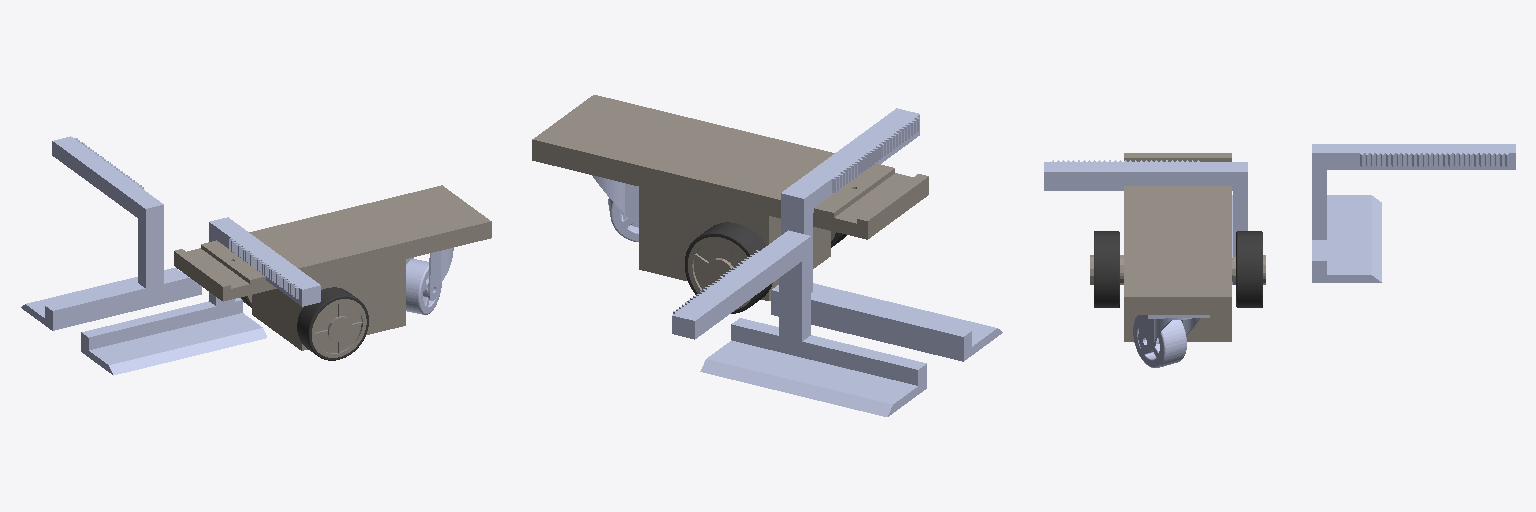
The robot description file, URDF, robot "rocr":
<?xml version="1.0" encoding="utf-8"?>
<!-- This URDF was automatically created by SolidWorks to URDF Exporter! Originally created by [author] ([email redacted]) 
     Commit Version: 1.5.1-0-g916b5db  Build Version: 1.5.7152.31018
     For more information, please see http://wiki.ros.org/sw_urdf_exporter -->
<robot
  name="rocr">
  <link name="dummy_link"></link>
  <joint name="dummy_joint" type="fixed">
    <parent link="dummy_link" />
    <child link="base_link" />
  </joint>
  <link name="base_link">
    <inertial>
      <origin
        xyz="-0.141982550331591 -0.0449776887077858 -0.0201281379637982"
        rpy="0 0 0" />
      <mass
        value="8.3349118107069" />
      <inertia
        ixx="0.0115670401460947"
        ixy="6.14001253524358E-06"
        ixz="-0.00089972879961413"
        iyy="0.0302239682852884"
        iyz="4.05745548139952E-06"
        izz="0.0308612658208841" />
    </inertial>
    <visual>
      <origin
        xyz="0 0 0"
        rpy="0 0 0" />
      <geometry>
        <mesh
          filename="package://rocr/meshes/base_link.STL" />
      </geometry>
      <material
        name="">
        <color
          rgba="0.650980392156863 0.619607843137255 0.588235294117647 1" />
      </material>
    </visual>
    <collision>
      <origin
        xyz="0 0 0"
        rpy="0 0 0" />
      <geometry>
        <mesh
          filename="package://rocr/meshes/base_link.STL" />
      </geometry>
    </collision>
  </link>
  <link
    name="link_right_arm">
    <inertial>
      <origin
        xyz="0.105749170017255 0.041732238071937 0.0288280104468748"
        rpy="0 0 0" />
      <mass
        value="0.165316765586137" />
      <inertia
        ixx="0.00061062074620645"
        ixy="-0.000197454180877903"
        ixz="-0.000122729645879153"
        iyy="0.000702185352603572"
        iyz="-0.000186690232637552"
        izz="0.000631933215587882" />
    </inertial>
    <visual>
      <origin
        xyz="0 0 0"
        rpy="0 0 0" />
      <geometry>
        <mesh
          filename="package://rocr/meshes/link_right_arm.STL" />
      </geometry>
      <material
        name="">
        <color
          rgba="0.792156862745098 0.819607843137255 0.933333333333333 1" />
      </material>
    </visual>
    <collision>
      <origin
        xyz="0 0 0"
        rpy="0 0 0" />
      <geometry>
        <mesh
          filename="package://rocr/meshes/link_right_arm.STL" />
      </geometry>
    </collision>
  </link>
  <joint
    name="joint_right_arm"
    type="prismatic">
    <origin
      xyz="-0.36753 0 -0.072"
      rpy="1.5708 0 0" />
    <parent
      link="base_link" />
    <child
      link="link_right_arm" />
    <axis
      xyz="0 0 1" />
    <limit
      lower="0"
      upper="0"
      effort="0"
      velocity="0" />
  </joint>
  <link
    name="link_left_arm">
    <inertial>
      <origin
        xyz="-0.0655989557893638 0.0418008535608141 0.127140611347727"
        rpy="0 0 0" />
      <mass
        value="0.160992890586137" />
      <inertia
        ixx="0.000595308316329433"
        ixy="-8.90928279875956E-05"
        ixz="5.62513948424321E-05"
        iyy="0.000548684708610842"
        iyz="0.000182030001506834"
        izz="0.000479899493032254" />
    </inertial>
    <visual>
      <origin
        xyz="0 0 0"
        rpy="0 0 0" />
      <geometry>
        <mesh
          filename="package://rocr/meshes/link_left_arm.STL" />
      </geometry>
      <material
        name="">
        <color
          rgba="0.792156862745098 0.819607843137255 0.933333333333333 1" />
      </material>
    </visual>
    <collision>
      <origin
        xyz="0 0 0"
        rpy="0 0 0" />
      <geometry>
        <mesh
          filename="package://rocr/meshes/link_left_arm.STL" />
      </geometry>
    </collision>
  </link>
  <joint
    name="joint_left_arm"
    type="prismatic">
    <origin
      xyz="-0.214 0.066815 -0.072"
      rpy="1.5708 0 0" />
    <parent
      link="base_link" />
    <child
      link="link_left_arm" />
    <axis
      xyz="0 0 1" />
    <limit
      lower="0"
      upper="0"
      effort="0"
      velocity="0" />
  </joint>
  <link
    name="link_right_rim">
    <inertial>
      <origin
        xyz="-5.55111512312578E-17 0 -0.0113891093112037"
        rpy="0 0 0" />
      <mass
        value="0.400654705302582" />
      <inertia
        ixx="0.000116204274958593"
        ixy="0"
        ixz="-8.65078073008246E-22"
        iyy="0.000116204274958593"
        iyz="1.33721445129206E-21"
        izz="0.000203418948332367" />
    </inertial>
    <visual>
      <origin
        xyz="0 0 0"
        rpy="0 0 0" />
      <geometry>
        <mesh
          filename="package://rocr/meshes/link_right_rim.STL" />
      </geometry>
      <material
        name="">
        <color
          rgba="0.650980392156863 0.619607843137255 0.588235294117647 1" />
      </material>
    </visual>
    <collision>
      <origin
        xyz="0 0 0"
        rpy="0 0 0" />
      <geometry>
        <mesh
          filename="package://rocr/meshes/link_right_rim.STL" />
      </geometry>
    </collision>
  </link>
  <joint
    name="joint_right_rim"
    type="continuous">
    <origin
      xyz="-0.175 0.003 -0.041947"
      rpy="1.5708 -0.40272 0" />
    <parent
      link="base_link" />
    <child
      link="link_right_rim" />
    <axis
      xyz="0 0 1" />
  </joint>
  <link
    name="link_right_tyre">
    <inertial>
      <origin
        xyz="5.55111512312578E-17 6.93889390390723E-18 0.01"
        rpy="0 0 0" />
      <mass
        value="0.00856487122656644" />
      <inertia
        ixx="4.45967200170225E-06"
        ixy="-1.94368867832977E-37"
        ixz="1.61583291242869E-36"
        iyy="4.45967200170225E-06"
        iyz="-8.20718180003796E-38"
        izz="8.22926245649565E-06" />
    </inertial>
    <visual>
      <origin
        xyz="0 0 0"
        rpy="0 0 0" />
      <geometry>
        <mesh
          filename="package://rocr/meshes/link_right_tyre.STL" />
      </geometry>
      <material
        name="">
        <color
          rgba="0.298039215686275 0.298039215686275 0.298039215686275 1" />
      </material>
    </visual>
    <collision>
      <origin
        xyz="0 0 0"
        rpy="0 0 0" />
      <geometry>
        <mesh
          filename="package://rocr/meshes/link_right_tyre.STL" />
      </geometry>
    </collision>
  </link>
  <joint
    name="joint_right_tyre"
    type="fixed">
    <origin
      xyz="0 0 -0.022"
      rpy="0 0 -0.40272" />
    <parent
      link="link_right_rim" />
    <child
      link="link_right_tyre" />
    <axis
      xyz="0 0 0" />
  </joint>
  <link
    name="link_left_rim">
    <inertial>
      <origin
        xyz="0 0 -0.0113891093112036"
        rpy="0 0 0" />
      <mass
        value="0.400654705302582" />
      <inertia
        ixx="0.000116204274958593"
        ixy="-1.27054942088145E-21"
        ixz="-2.31363573191647E-21"
        iyy="0.000116204274958593"
        iyz="-2.30004572317806E-22"
        izz="0.000203418948332367" />
    </inertial>
    <visual>
      <origin
        xyz="0 0 0"
        rpy="0 0 0" />
      <geometry>
        <mesh
          filename="package://rocr/meshes/link_left_rim.STL" />
      </geometry>
      <material
        name="">
        <color
          rgba="0.650980392156863 0.619607843137255 0.588235294117647 1" />
      </material>
    </visual>
    <collision>
      <origin
        xyz="0 0 0"
        rpy="0 0 0" />
      <geometry>
        <mesh
          filename="package://rocr/meshes/link_left_rim.STL" />
      </geometry>
    </collision>
  </link>
  <joint
    name="joint_left_rim"
    type="continuous">
    <origin
      xyz="-0.175 -0.092 -0.041947"
      rpy="1.5708 -0.002359 3.1416" />
    <parent
      link="base_link" />
    <child
      link="link_left_rim" />
    <axis
      xyz="0 0 1" />
  </joint>
  <link
    name="link_left_tyre">
    <inertial>
      <origin
        xyz="5.55111512312578E-17 0 0.012"
        rpy="0 0 0" />
      <mass
        value="0.00856487122656644" />
      <inertia
        ixx="4.45967200170225E-06"
        ixy="2.77374126718516E-37"
        ixz="1.89711423412783E-36"
        iyy="4.45967200170225E-06"
        iyz="2.9846536251347E-37"
        izz="8.22926245649565E-06" />
    </inertial>
    <visual>
      <origin
        xyz="0 0 0"
        rpy="0 0 0" />
      <geometry>
        <mesh
          filename="package://rocr/meshes/link_left_tyre.STL" />
      </geometry>
      <material
        name="">
        <color
          rgba="0.298039215686275 0.298039215686275 0.298039215686275 1" />
      </material>
    </visual>
    <collision>
      <origin
        xyz="0 0 0"
        rpy="0 0 0" />
      <geometry>
        <mesh
          filename="package://rocr/meshes/link_left_tyre.STL" />
      </geometry>
    </collision>
  </link>
  <joint
    name="joint_left_tyre"
    type="fixed">
    <origin
      xyz="0 0 0"
      rpy="3.1416 0 3.1392" />
    <parent
      link="link_left_rim" />
    <child
      link="link_left_tyre" />
    <axis
      xyz="0 0 0" />
  </joint>
  <link
    name="link_rear_wheel">
    <inertial>
      <origin
        xyz="-0.00136107293497366 0.0167139784122666 0.000497520538469617"
        rpy="0 0 0" />
      <mass
        value="0.0168994178831651" />
      <inertia
        ixx="3.10259289186708E-06"
        ixy="-9.46684720380268E-10"
        ixz="8.59598375765406E-08"
        iyy="8.50882419569337E-06"
        iyz="3.05408943067438E-11"
        izz="5.76434109658073E-06" />
    </inertial>
    <visual>
      <origin
        xyz="0 0 0"
        rpy="0 0 0" />
      <geometry>
        <mesh
          filename="package://rocr/meshes/link_rear_wheel.STL" />
      </geometry>
      <material
        name="">
        <color
          rgba="0.792156862745098 0.819607843137255 0.933333333333333 1" />
      </material>
    </visual>
    <collision>
      <origin
        xyz="0 0 0"
        rpy="0 0 0" />
      <geometry>
        <mesh
          filename="package://rocr/meshes/link_rear_wheel.STL" />
      </geometry>
    </collision>
  </link>
  <joint
    name="joint_rear_wheel"
    type="continuous">
    <origin
      xyz="-0.035562 -0.0445 -0.01849"
      rpy="1.5708 0 0" />
    <parent
      link="base_link" />
    <child
      link="link_rear_wheel" />
    <axis
      xyz="0 1 0" />
  </joint>

  <transmission name="trans1">
    <type>transmission_interface/SimpleTransmission</type>
    <joint name="joint_left_rim">
      <hardwareInterface>hardware_interface/VelocityJointInterface</hardwareInterface>
    </joint>
    <actuator name="left_wheel">
      <mechanicalReduction>7</mechanicalReduction>
      <hardwareInterface>VelocityJointInterface</hardwareInterface>
    </actuator>
  </transmission>

  <transmission name="trans1">
    <type>transmission_interface/SimpleTransmission</type>
    <joint name="joint_right_rim">
      <hardwareInterface>hardware_interface/VelocityJointInterface</hardwareInterface>
    </joint>
    <actuator name="right_wheel">
      <mechanicalReduction>7</mechanicalReduction>
      <hardwareInterface>VelocityJointInterface</hardwareInterface>
    </actuator>
  </transmission>

<gazebo>
  <plugin name="gazebo_ros_control" filename="libgazebo_ros_control.so">
  </plugin>
</gazebo>
</robot>

--- What the picture shows (computed from the rendered views, not written in the file) ---
Views: 3 orthographic renders of the robot side by side, from view 1: azimuth 30°, elevation 25°; view 2: azimuth 150°, elevation 25°; view 3: azimuth 270°, elevation 25°.
Model rocr with 9 links and 8 joints (3 continuous, 2 prismatic, 3 fixed), rooted at dummy_link, posed every joint at zero.
Links seen in each view (by area): view 1: base_link, link_right_arm, link_left_arm, link_rear_wheel, link_left_rim, link_left_tyre; view 2: base_link, link_left_arm, link_right_arm, link_rear_wheel, link_right_rim, link_right_tyre; view 3: base_link, link_left_arm, link_right_arm, link_rear_wheel, link_right_tyre, link_left_tyre.
Link boxes in pixels (<box>): base_link: <box>174,185,491,350</box>; link_right_arm: <box>81,217,320,375</box>; link_left_arm: <box>21,136,201,330</box>; link_rear_wheel: <box>406,248,453,314</box>; link_left_rim: <box>312,299,366,357</box>; link_left_tyre: <box>297,287,368,360</box>; base_link: <box>532,95,928,300</box>; link_left_arm: <box>672,230,926,416</box>; link_right_arm: <box>771,108,1002,361</box>; link_rear_wheel: <box>592,175,638,241</box>; link_right_rim: <box>688,237,751,309</box>; link_right_tyre: <box>685,222,772,313</box>; base_link: <box>1090,153,1265,341</box>; link_left_arm: <box>1312,144,1515,282</box>; link_right_arm: <box>1044,160,1247,284</box>; link_rear_wheel: <box>1133,315,1209,367</box>; link_right_tyre: <box>1236,231,1262,307</box>; link_left_tyre: <box>1094,231,1119,307</box>.
Size in the robot's own frame: 0.3728 by 0.3928 by 0.1019 metres.
Meshes: 8 distinct files referenced, 8 mesh visuals loaded (8 binary STL).